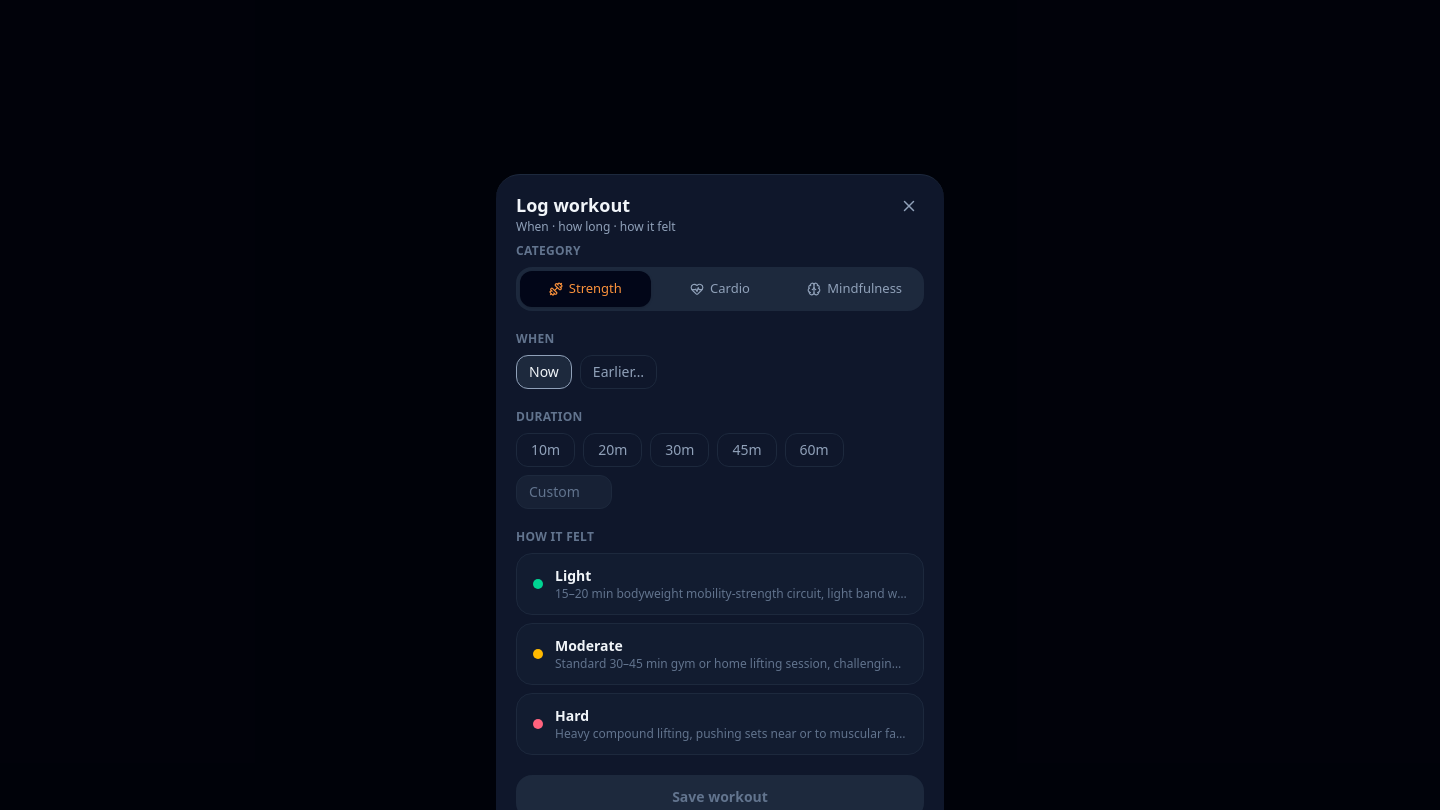
Test case: LogWorkoutSheet › shows active recovery for Light during Rest
This screenshot has width=1440, height=810.
Click the button "Light" at coordinates (720, 584), box [516,552,924,614]
(page scrolled)
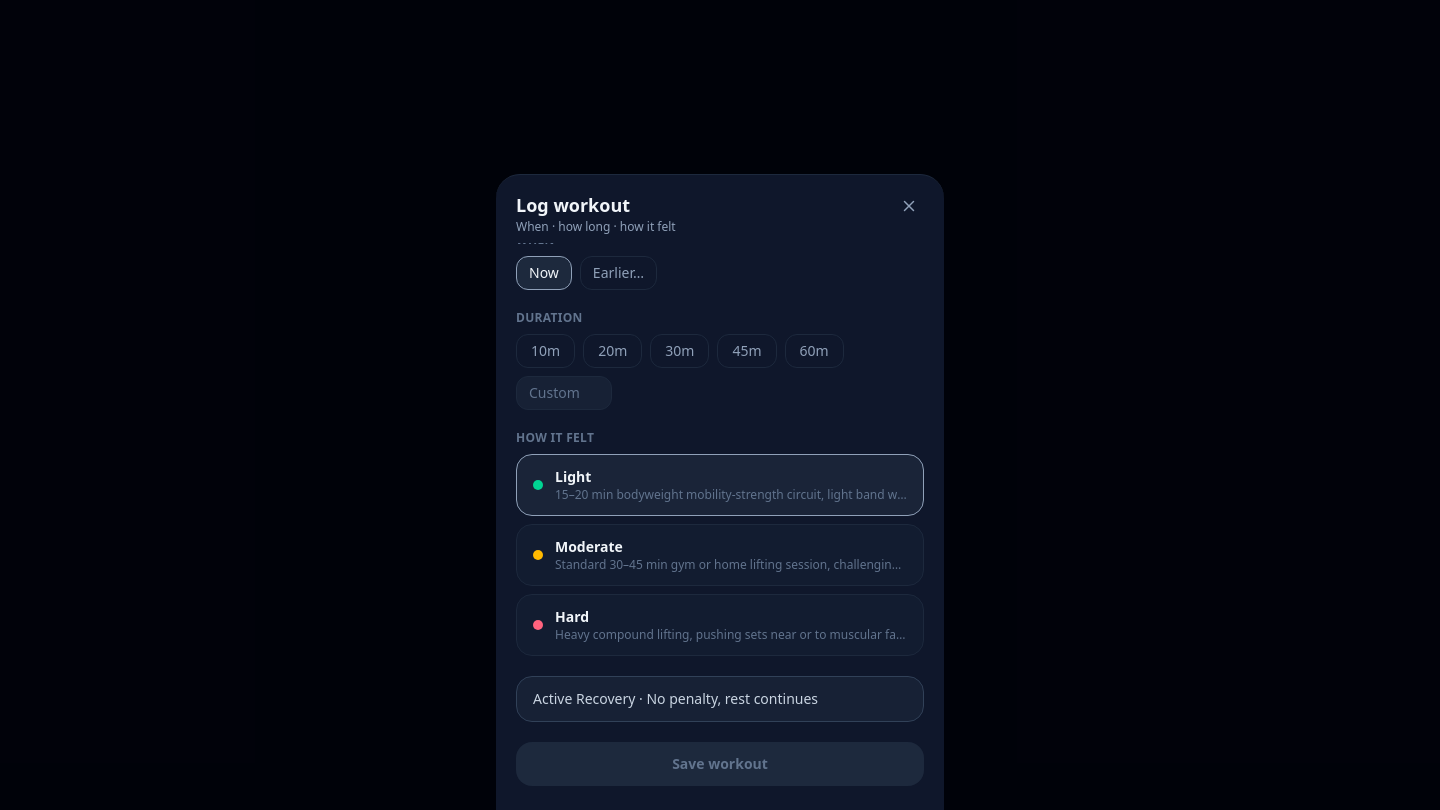
expect the text "Active Recovery · No penalty, rest continues" is shown: met, box [516,676,924,722]
